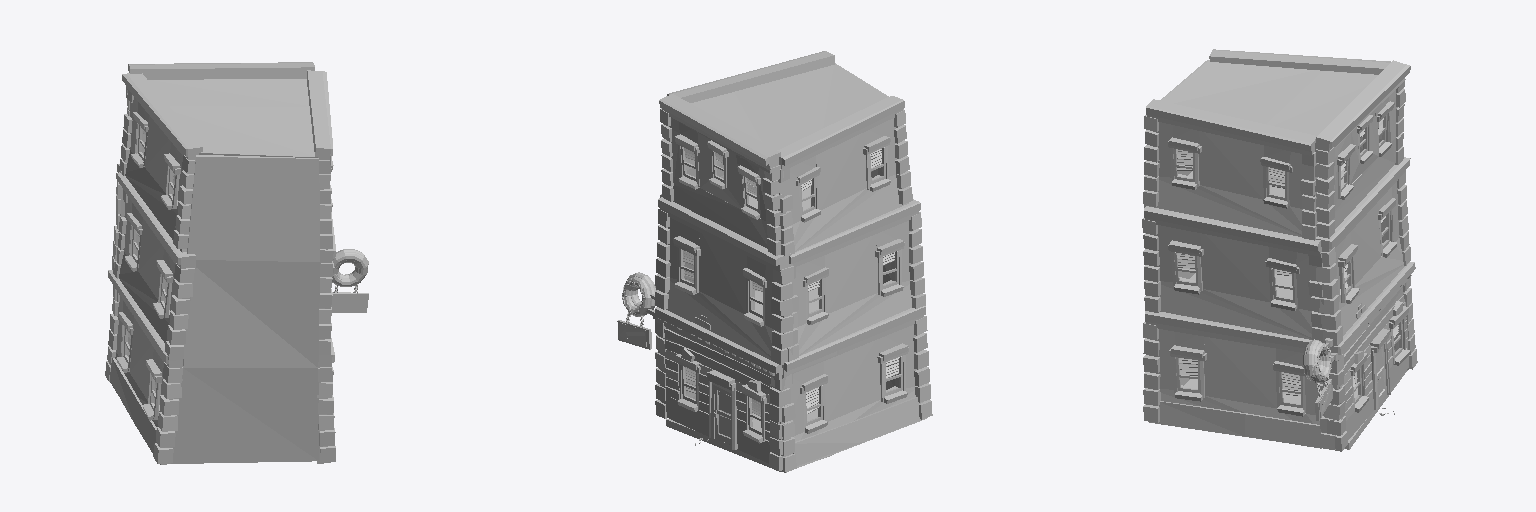
Rendered from shop_3.obj.
3 views of the same model, side by side, from view 1: azimuth 30°, elevation 25°; view 2: azimuth 150°, elevation 25°; view 3: azimuth 270°, elevation 25° (orthographic).
Visible parts, largest first — view 1: group[number redacted], group[number redacted], group[number redacted], group[number redacted], group[number redacted], group[number redacted], group[number redacted], group[number redacted], group[number redacted], group[number redacted], group[number redacted], group[number redacted] (+1 smaller); view 2: group[number redacted], group[number redacted], group[number redacted], group[number redacted], group[number redacted], group[number redacted], group[number redacted], group[number redacted], group[number redacted], group[number redacted], group[number redacted], group[number redacted] (+9 smaller); view 3: group[number redacted], group[number redacted], group[number redacted], group[number redacted], group[number redacted], group[number redacted], group[number redacted], group[number redacted], group[number redacted], group[number redacted], group[number redacted], group[number redacted] (+3 smaller).
Boxes of the visible parts, <box> form: group[number redacted]: <box>171,155,319,463</box>; group[number redacted]: <box>148,79,317,157</box>; group[number redacted]: <box>125,97,192,252</box>; group[number redacted]: <box>119,197,190,344</box>; group[number redacted]: <box>128,62,314,79</box>; group[number redacted]: <box>122,73,202,159</box>; group[number redacted]: <box>110,296,178,464</box>; group[number redacted]: <box>307,70,332,159</box>; group[number redacted]: <box>110,358,156,454</box>; group[number redacted]: <box>116,172,195,269</box>; group[number redacted]: <box>108,270,183,367</box>; group[number redacted]: <box>331,292,368,312</box>; group[number redacted]: <box>691,64,886,149</box>; group[number redacted]: <box>792,221,912,355</box>; group[number redacted]: <box>779,118,908,251</box>; group[number redacted]: <box>666,218,791,359</box>; group[number redacted]: <box>783,325,926,467</box>; group[number redacted]: <box>669,118,776,248</box>; group[number redacted]: <box>793,397,922,465</box>; group[number redacted]: <box>659,94,780,173</box>; group[number redacted]: <box>777,96,904,171</box>; group[number redacted]: <box>667,51,834,102</box>; group[number redacted]: <box>658,197,792,271</box>; group[number redacted]: <box>789,199,920,267</box>; group[number redacted]: <box>1156,225,1317,339</box>; group[number redacted]: <box>1149,122,1317,236</box>; group[number redacted]: <box>1161,60,1377,135</box>; group[number redacted]: <box>1149,329,1322,440</box>; group[number redacted]: <box>1318,182,1404,335</box>; group[number redacted]: <box>1158,401,1321,448</box>; group[number redacted]: <box>1146,99,1316,155</box>; group[number redacted]: <box>1319,90,1397,228</box>; group[number redacted]: <box>1144,206,1321,256</box>; group[number redacted]: <box>1145,311,1329,352</box>; group[number redacted]: <box>1315,60,1410,151</box>; group[number redacted]: <box>1209,49,1390,74</box>.
Size of the model in its own units: 0.132 by 0.1554 by 0.1196.